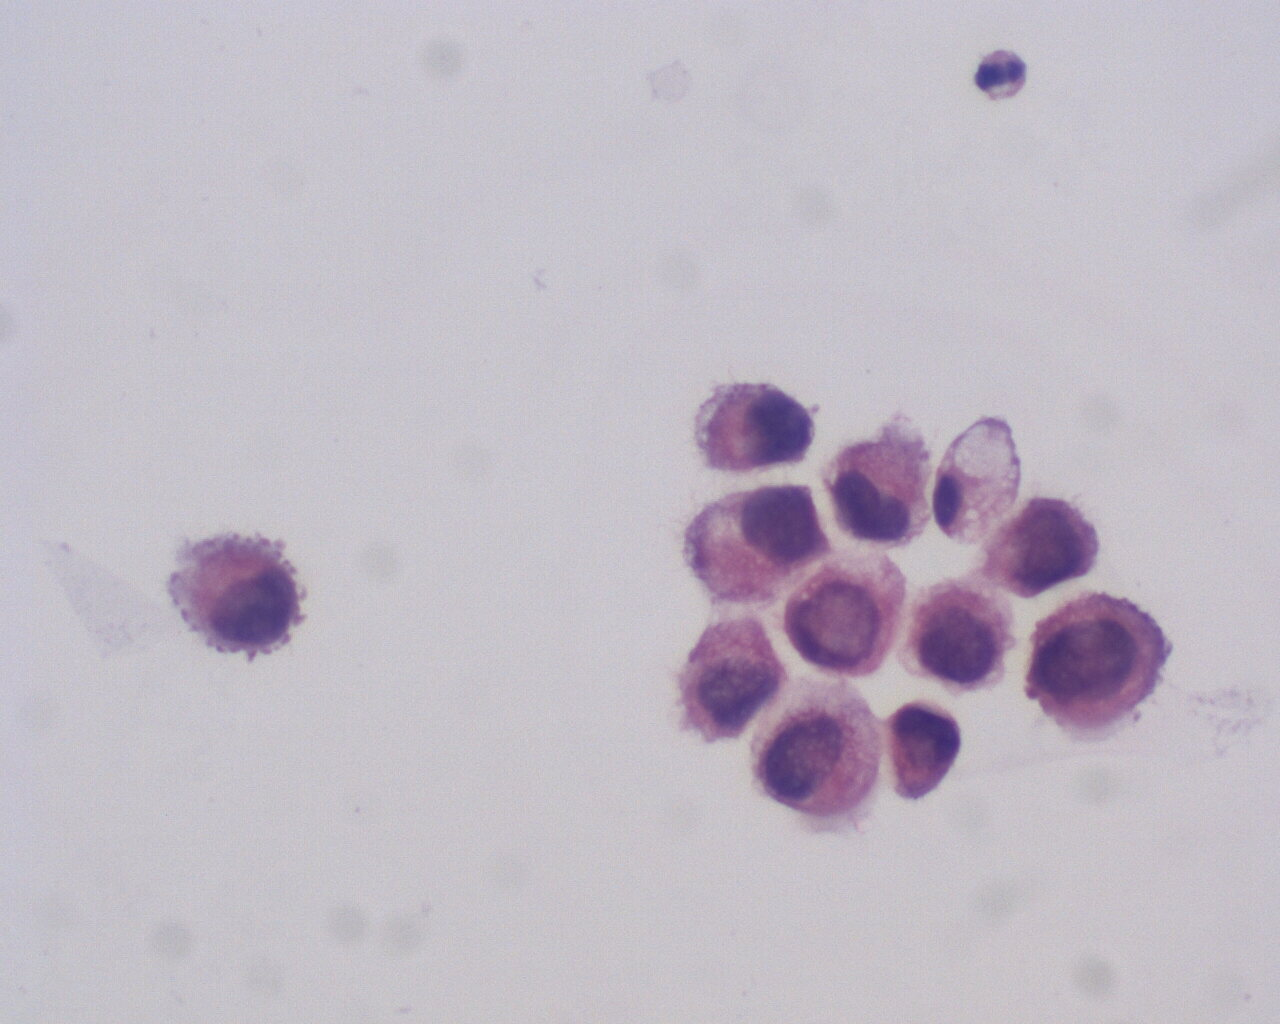ab: (1020, 594, 1171, 734), (750, 673, 887, 827), (669, 482, 829, 608), (167, 530, 308, 666), (675, 610, 787, 745), (783, 552, 898, 681), (691, 374, 817, 476), (829, 425, 931, 548), (905, 579, 1008, 696), (997, 496, 1103, 608), (886, 699, 971, 807)
histo: (932, 405, 1020, 544)
